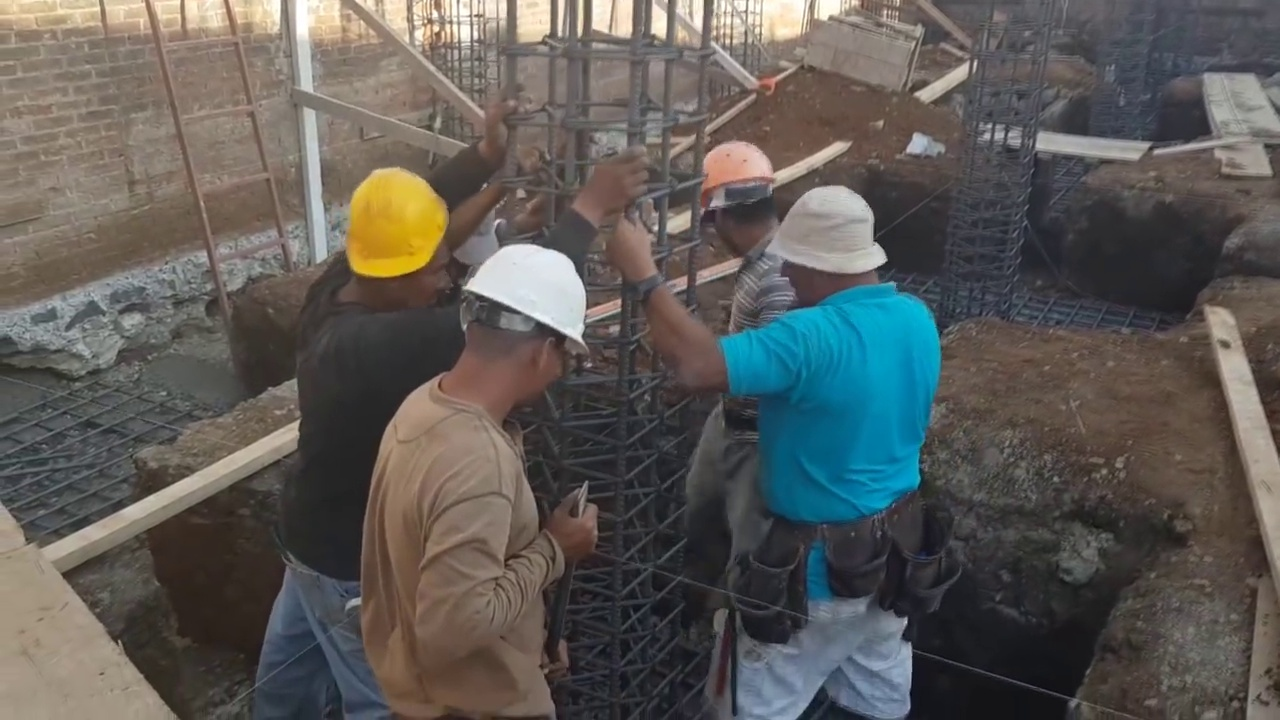helmet: (458, 245, 589, 362), (343, 162, 456, 280), (698, 139, 781, 200)
helmet-off: (773, 183, 889, 312)
helmet-on: (434, 238, 592, 430), (333, 166, 460, 320), (698, 129, 794, 273)
person: (619, 125, 936, 719), (247, 83, 525, 718), (356, 249, 595, 713), (680, 137, 798, 655)
